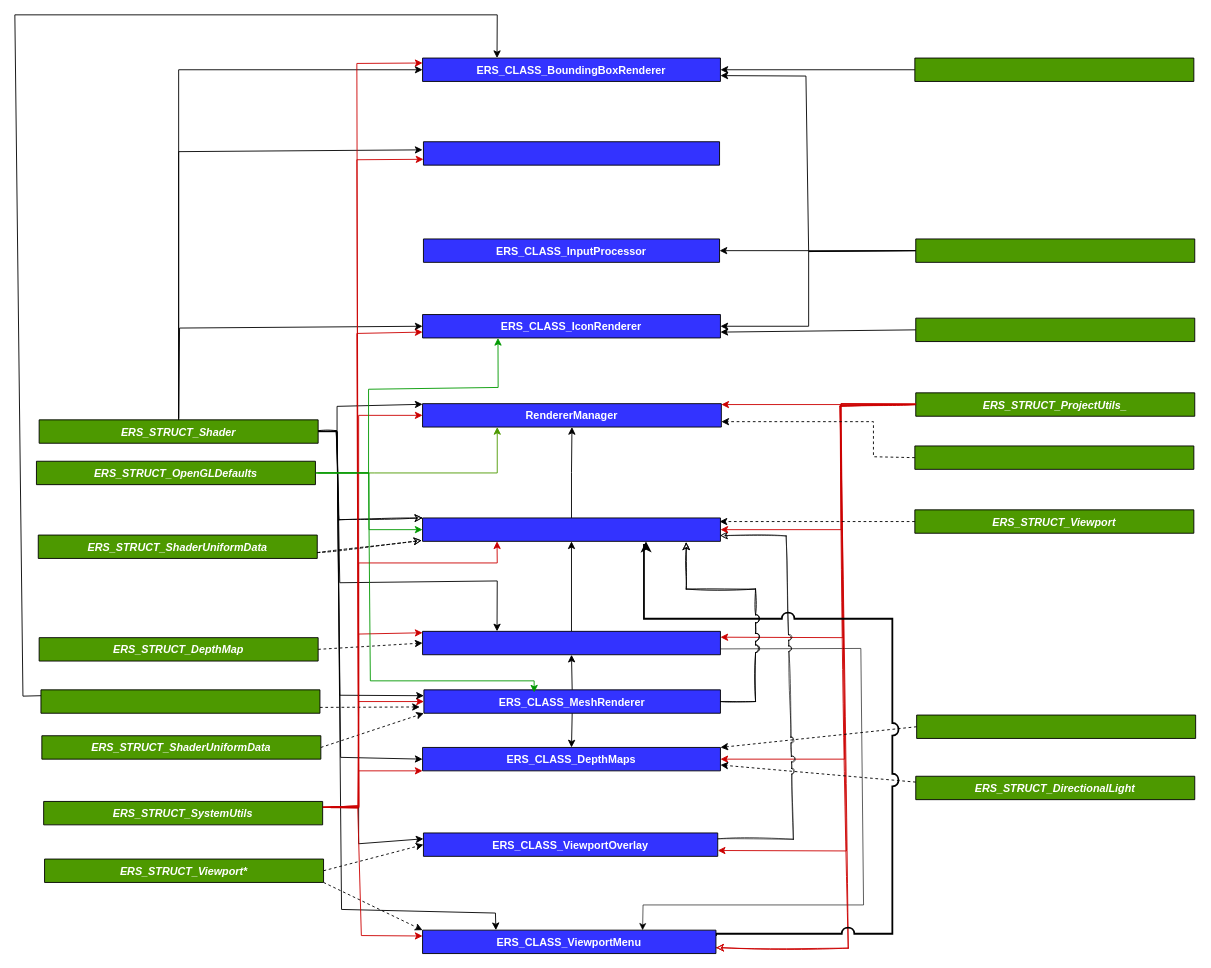
The diagram is 1211 pixels wide and 968 high, and some of its shapes have lost their labels. Here are the shapes that lost their labels. From the top down, the box of each, then its label:
(914, 57, 1194, 81): ERS_STRUCT_Model
(423, 141, 720, 165): ERS_CLASS_Grid
(915, 238, 1195, 262): ERS_STRUCT_Camera
(915, 317, 1195, 342): ERS_CLASS_SceneManager
(914, 445, 1194, 469): ERS_STRUCT_HumanInputDeviceUtils
(422, 517, 720, 541): ERS_CLASS_VisualRenderer
(422, 630, 720, 655): ERS_CLASS_ShadowMaps
(40, 689, 320, 713): ERS_STRUCT_Scene
(916, 714, 1196, 738): ERS_STRUCT_SpotLight
